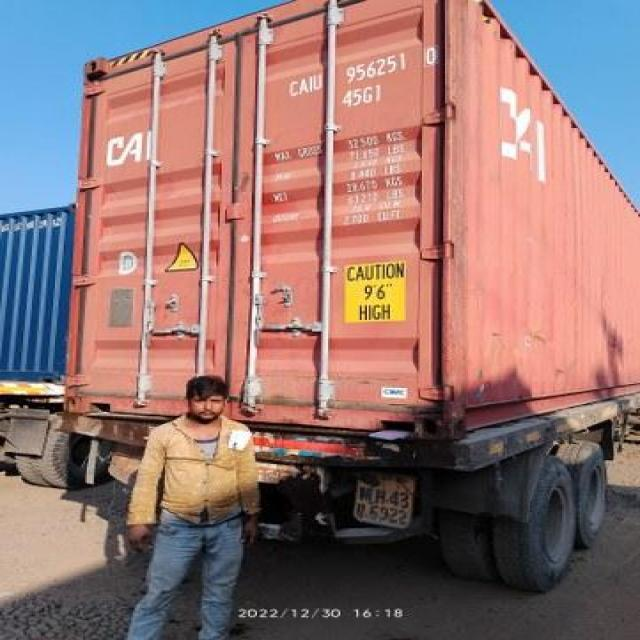container_number_h: (235, 40, 447, 122)
